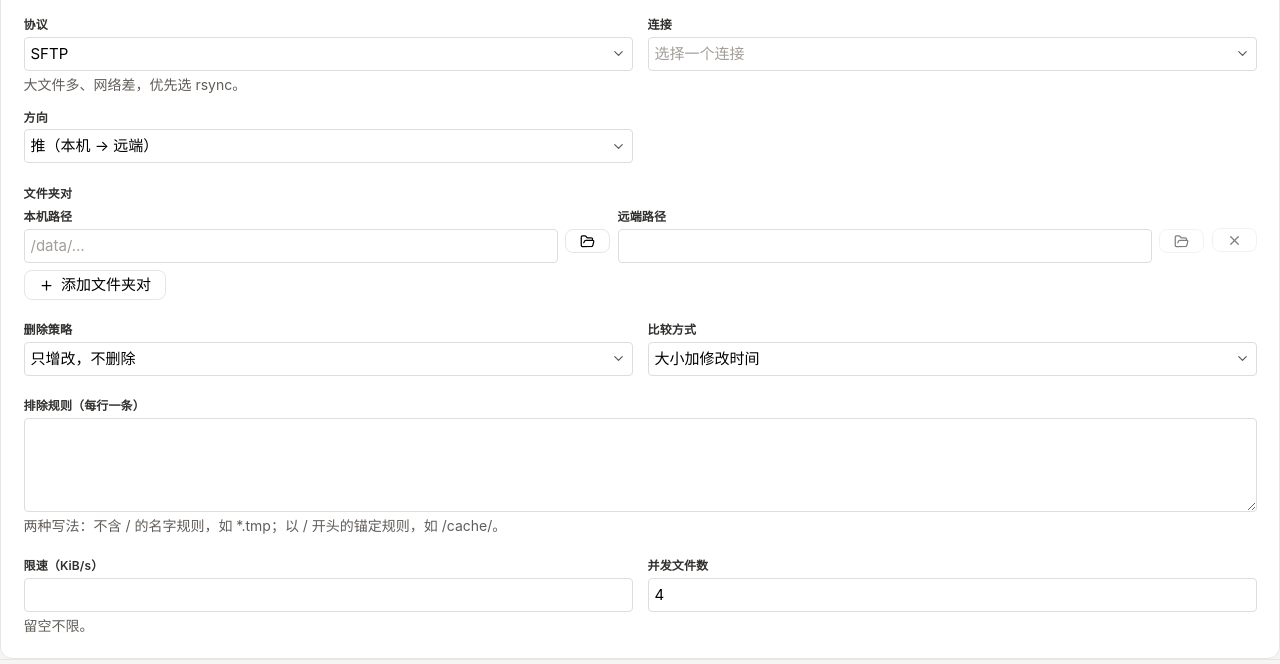
Test: sync: mirror shows warning and delete limit
(page scrolled)
Check: the text "目的地多出来的文件会被删除。" is not shown
Click the dropdown labelled "只增改，不删除": (83, 359) [24, 342, 632, 376]
(page scrolled)
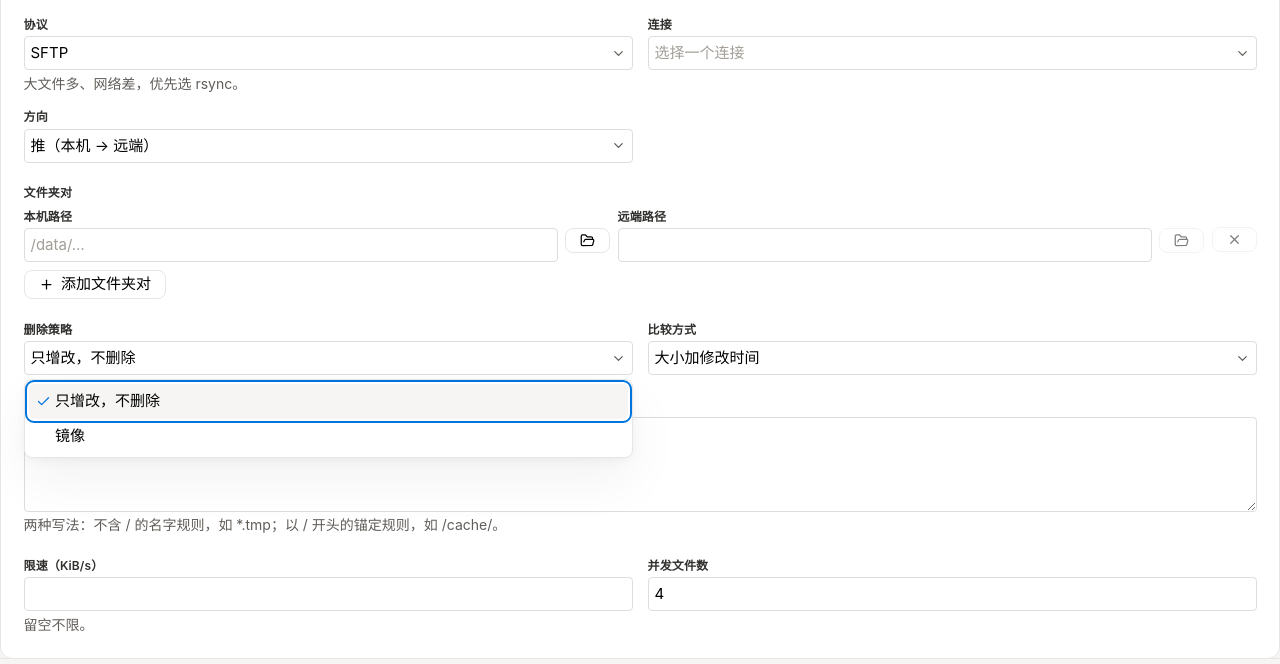
Click the option "镜像": (70, 436) [55, 426, 85, 445]
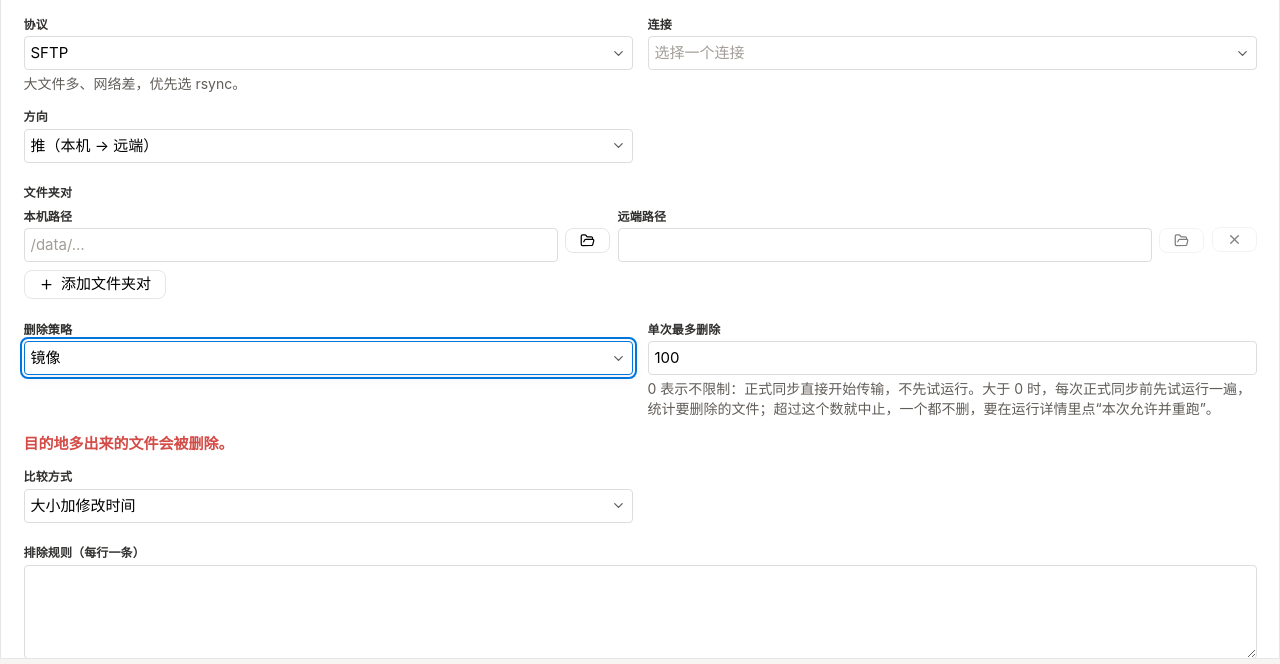
Check: the text "目的地多出来的文件会被删除。" is shown, box [24, 434, 234, 453]
Check: the field labelled "单次最多删除" holds "100", box [648, 341, 1256, 375]
Click the dropdown named "删除策略": (46, 358) [24, 341, 632, 375]
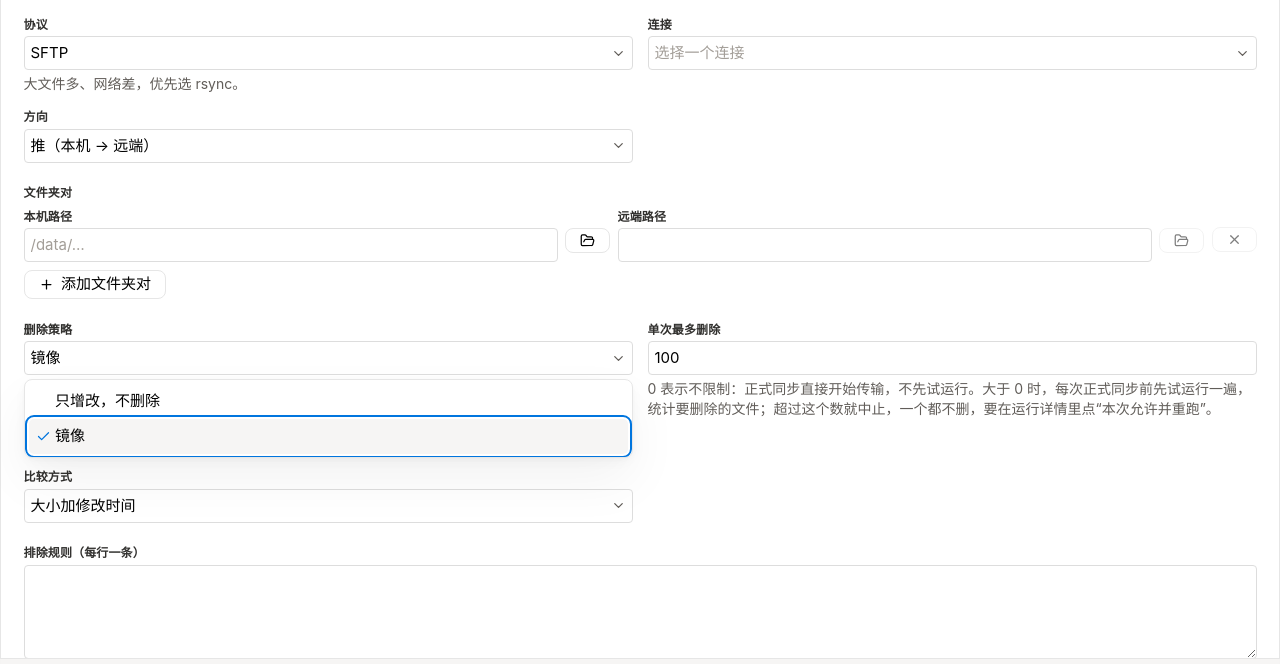
Click the option "只增改，不删除": (108, 401) [55, 391, 160, 410]
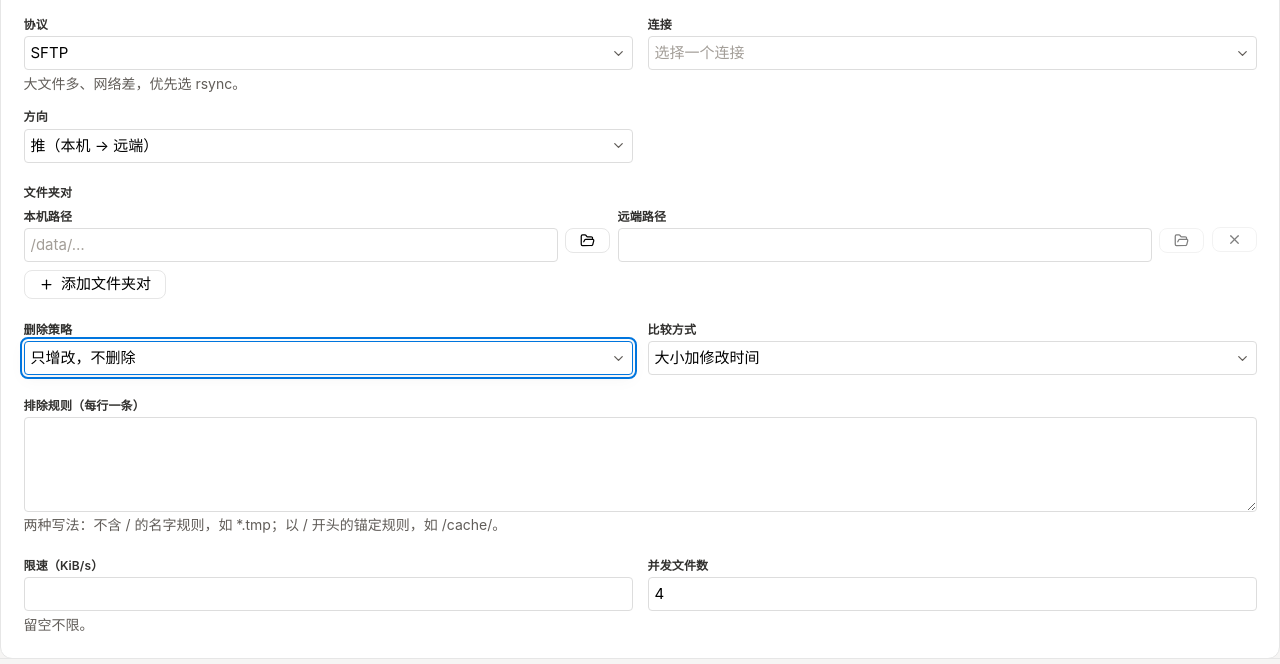
Check: the text "目的地多出来的文件会被删除。" is gone
Check: the label labelled "单次最多删除" is gone
